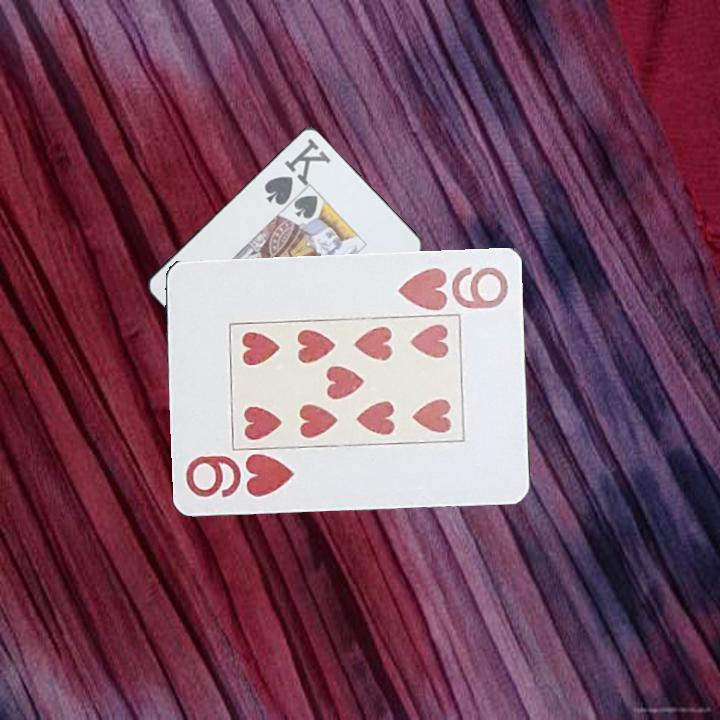9h: (394, 262, 512, 312), (182, 452, 298, 500)
Ks: (260, 134, 333, 208)
